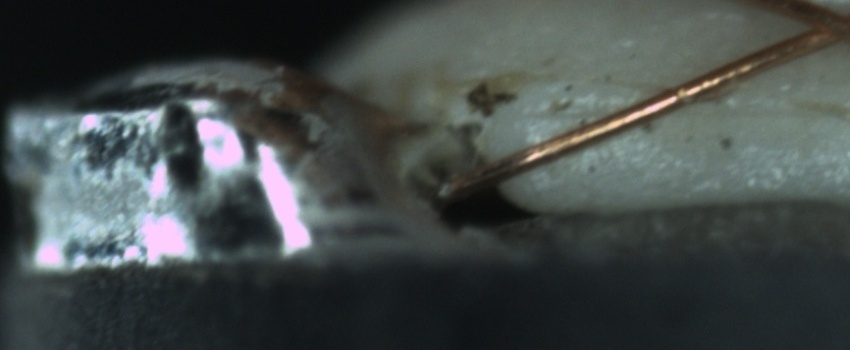CL: (775, 4, 848, 55)
DL: (530, 79, 850, 143)
